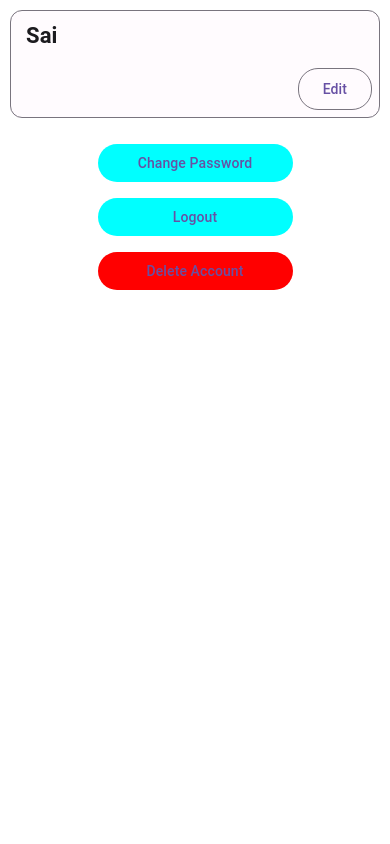
Test: shows an error when the password is submitted with less than 6 characters
The width and height of the screenshot is (390, 844).
Click the button "Change Password": (195, 163) [98,144,292,182]
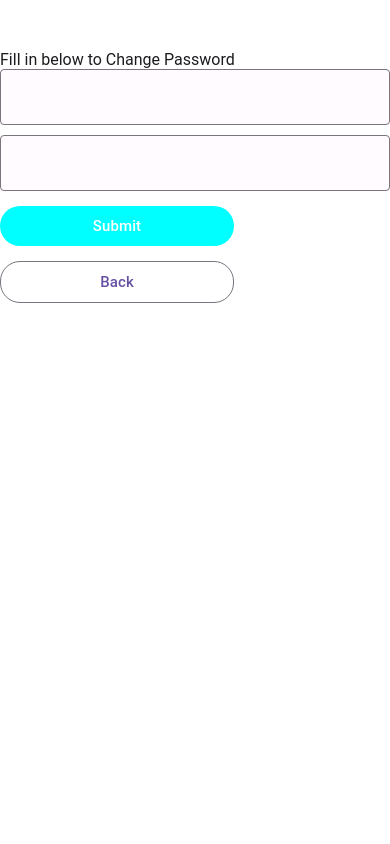
Fill in only the event name
In the password field with test id "password": (195, 97) [0,69,389,125], type "a"
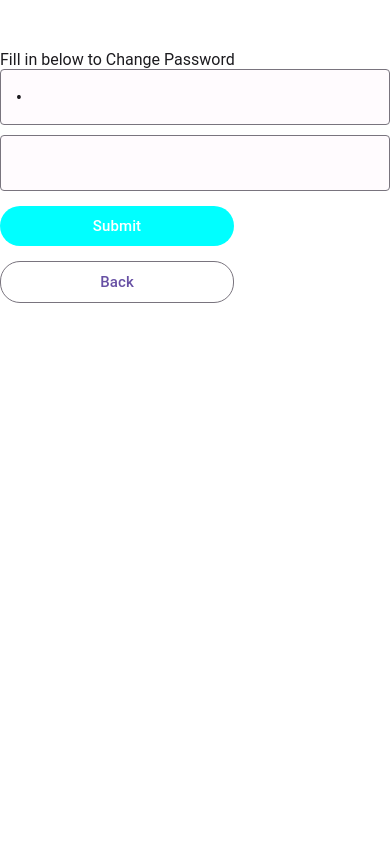
Click the button "Submit": (117, 226) [0,206,234,246]
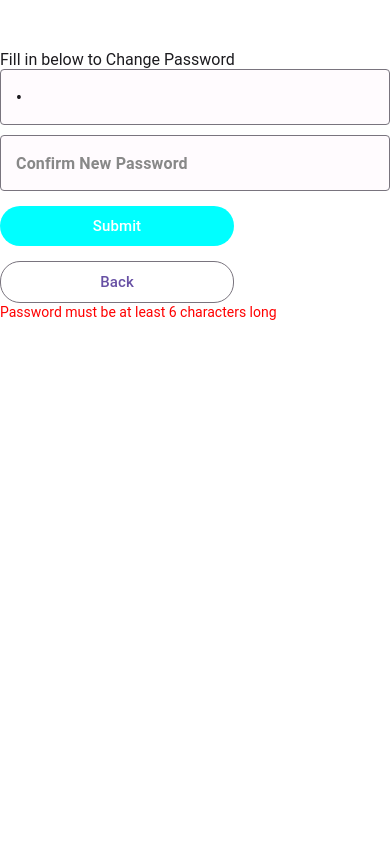
Expected: the text "Password must be at least 6 characters long" is shown, [0,304,277,320]
